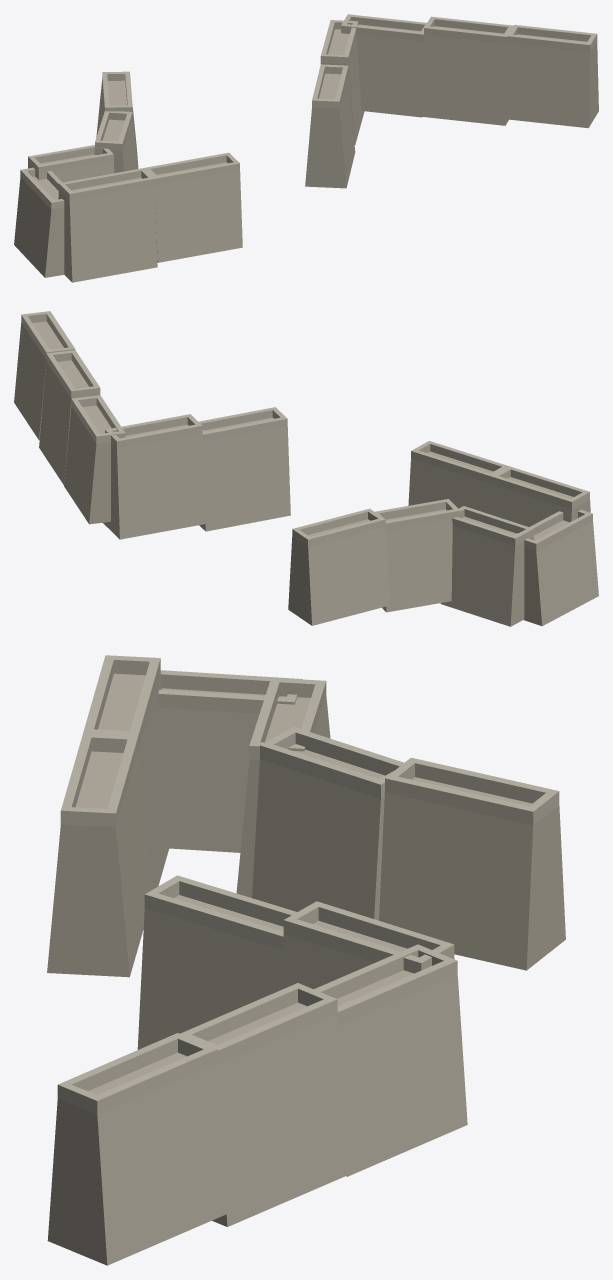
The model's file is kalkara_64_20_collision.glb.
3 views of the same model, one above another, from view 1: azimuth 30°, elevation 25°; view 2: azimuth 150°, elevation 25°; view 3: azimuth 270°, elevation 25° (orthographic). The views are drawn at different scales.
Parts seen in each view (by area): view 1: geometry_0; view 2: geometry_0; view 3: geometry_0.
Boxes of the visible parts, x1,y1,x2,y2 form: geometry_0: (14,14,598,282); geometry_0: (14,311,598,626); geometry_0: (47,655,565,1265).
Bounding box in the file's own units: 90.75 × 18.97 × 37.33.
